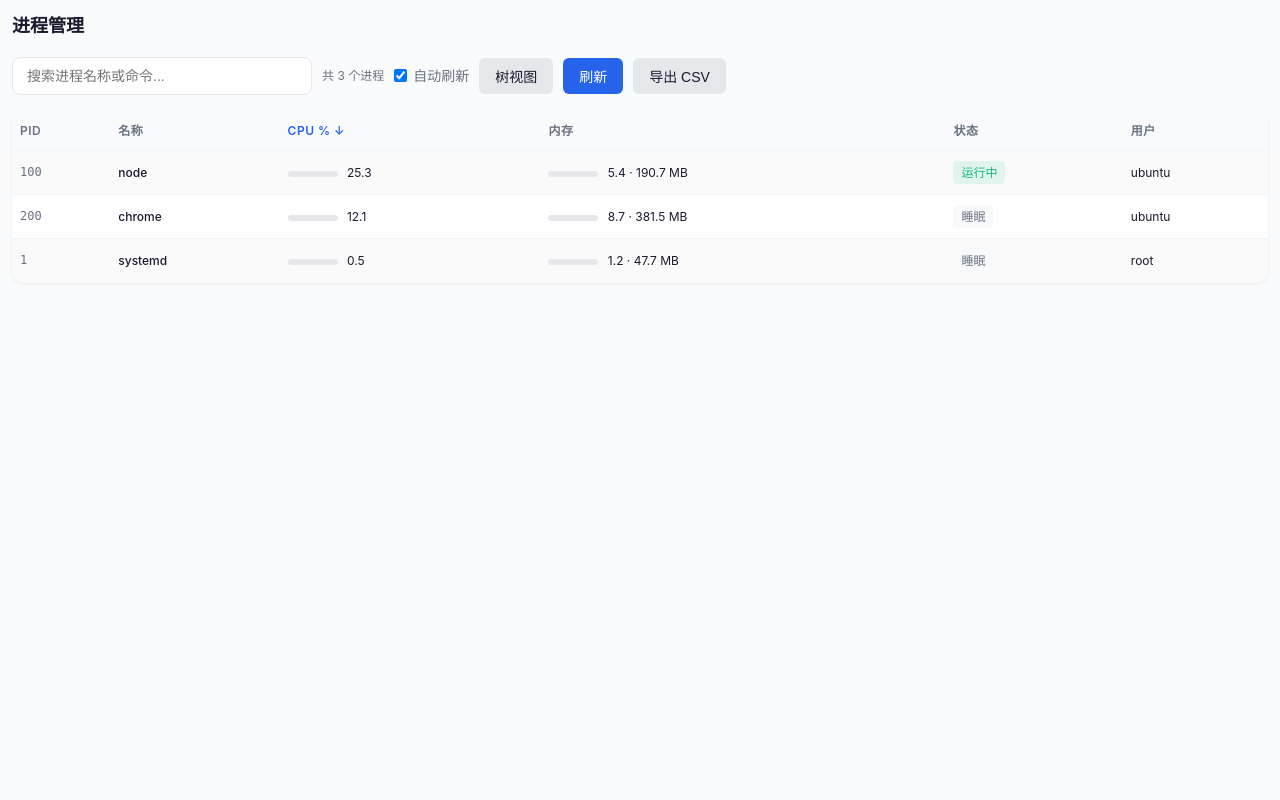
Processes › shows process detail modal on row click
The image size is (1280, 800).
Click the row "100 node 25.3 5.4 · 190.7 MB 运行中 ubuntu" at (640, 173), box x1=12 y1=150 x2=1268 y2=195
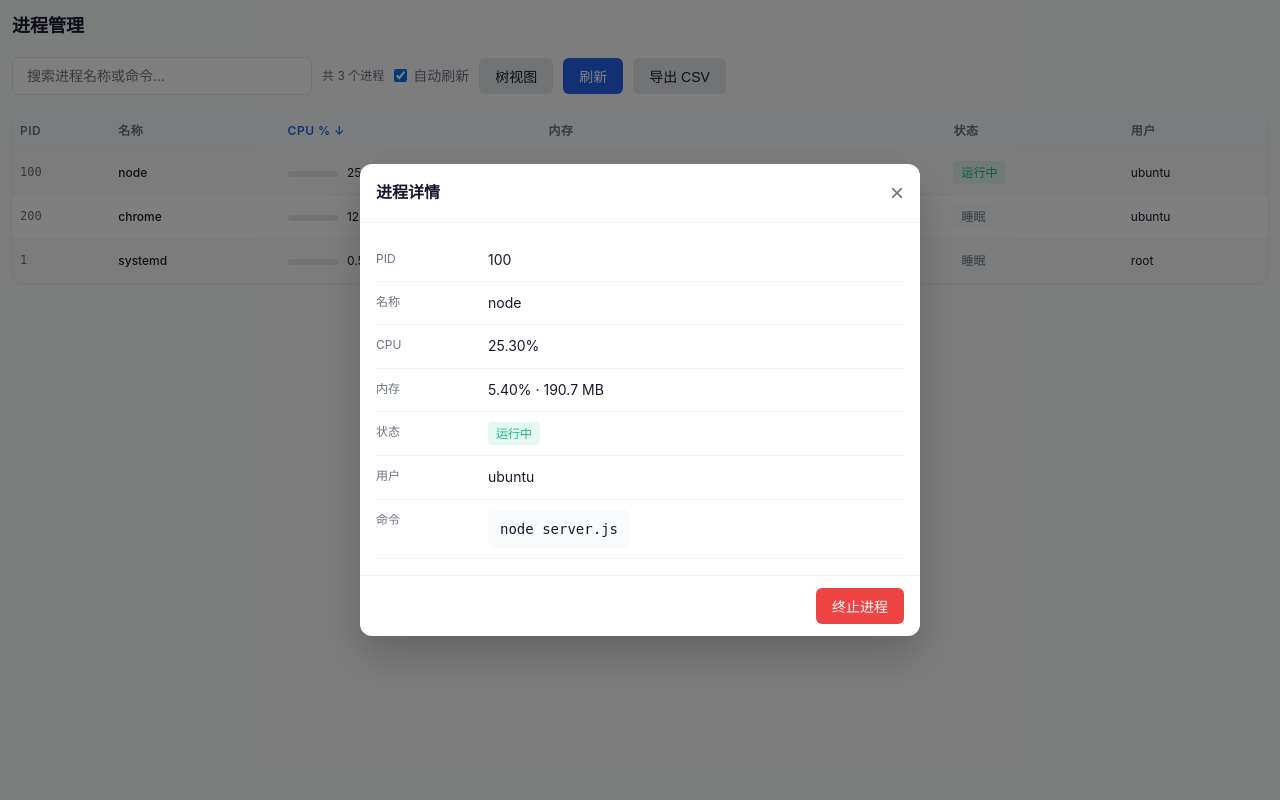
Result: the element with class "modal" is shown at x1=360 y1=164 x2=920 y2=636
Result: the heading with class "modal-title" reads "进程详情" at x1=376 y1=182 x2=440 y2=202
